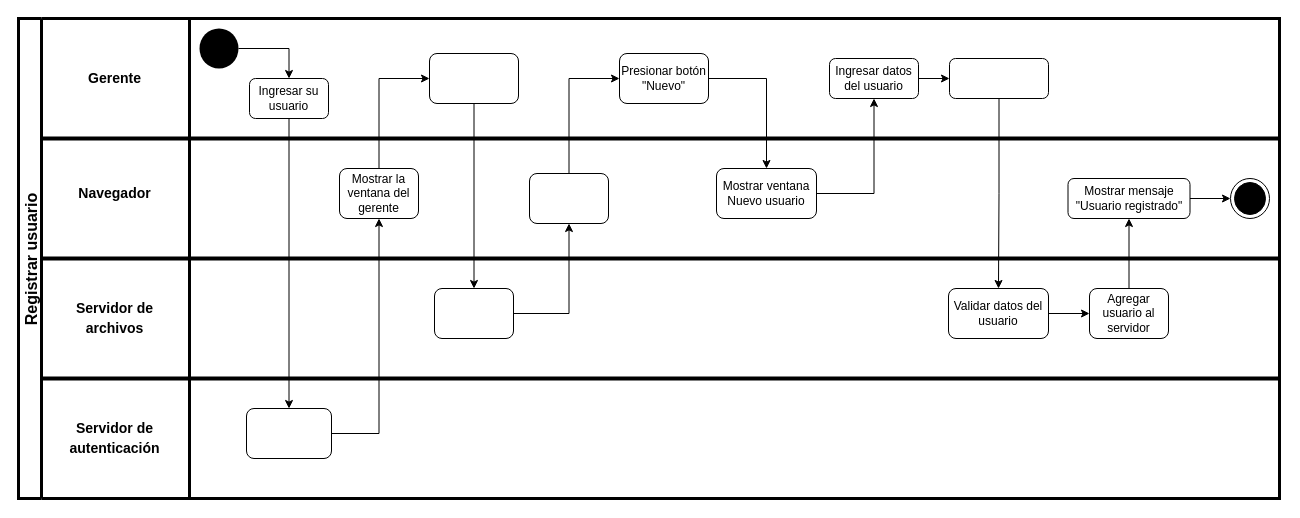
The diagram is 1300 pixels wide and 518 high, and some of its shapes have lost their labels. The centre of each missing label's shape, as x and y in pixels:
Autenticar los permisos de usuario: the point at 289,433
Consultar usuarios: the point at 474,313
Mostrar lista de usuarios: the point at 568,198
Presionar botón "Guardar": the point at 998,78
Seleccionar la ventana de usuarios: the point at 473,78
